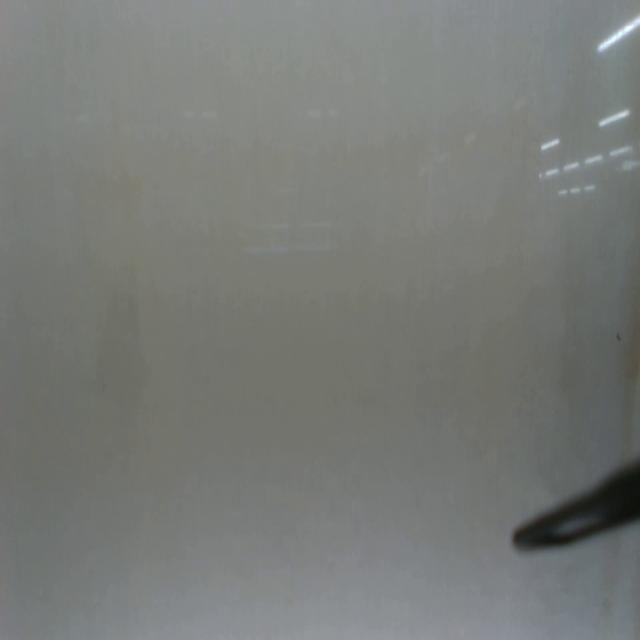hole: (616, 332, 622, 344)
